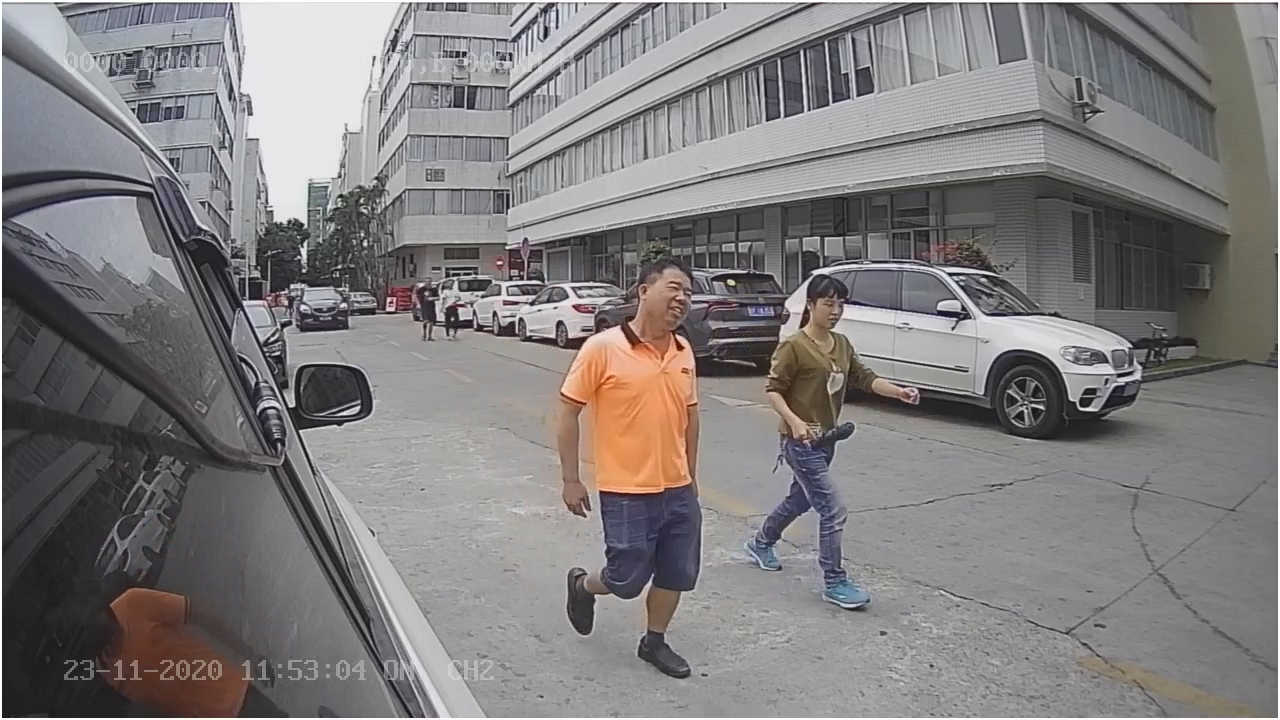person: (562, 264, 713, 637), (753, 273, 891, 604)
